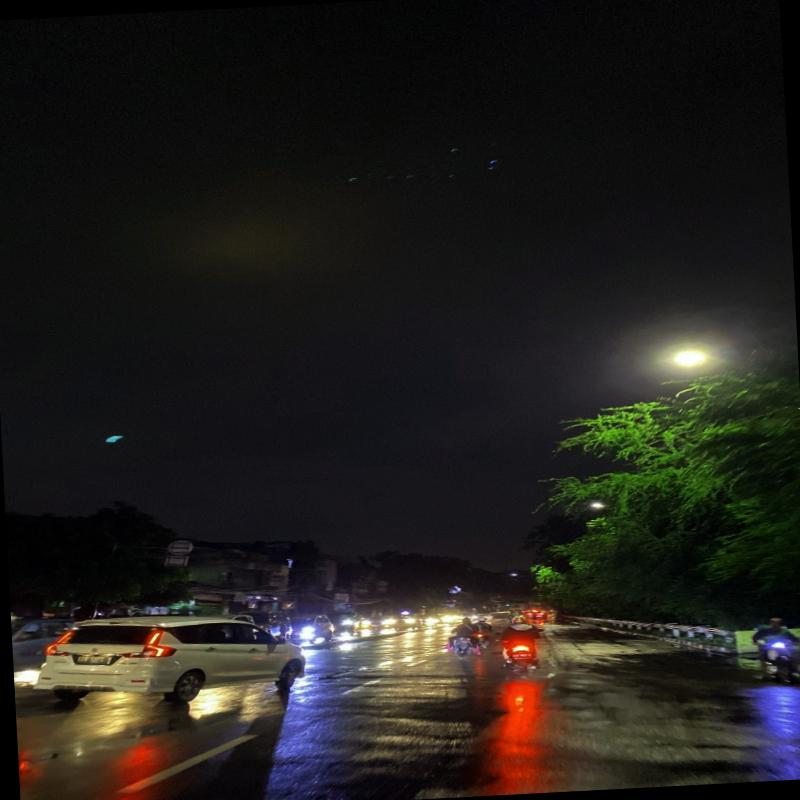license plate on a car: (76, 655, 116, 665)
